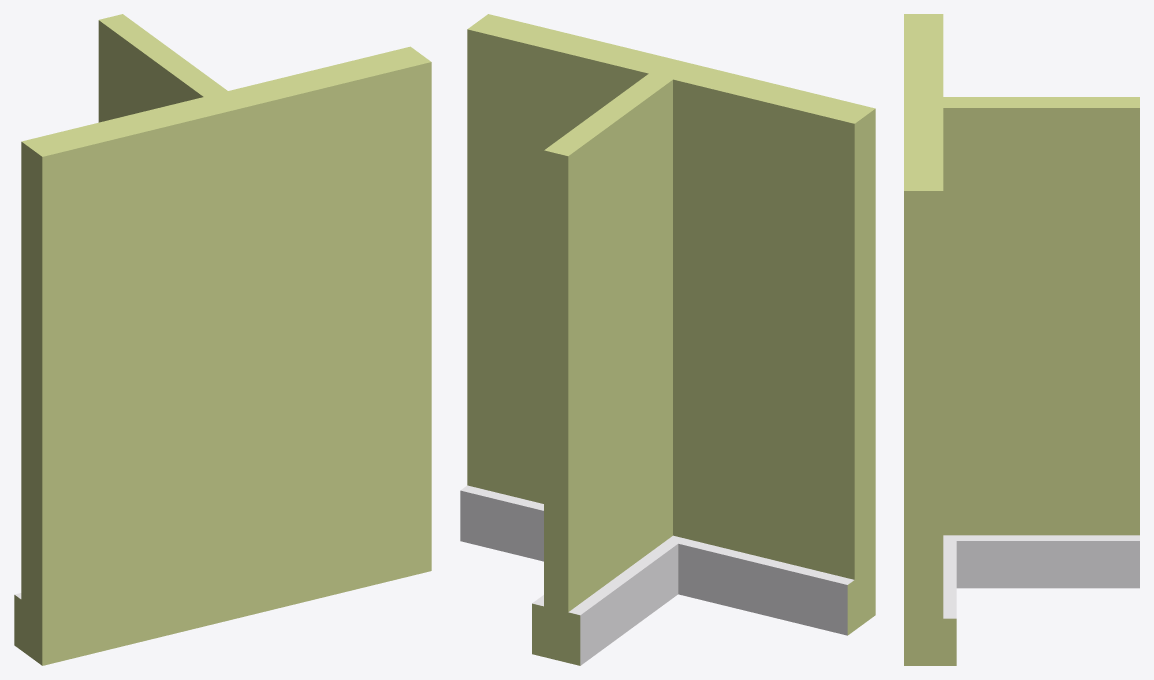
The model's file is TWallInsideCorners.glb.
3 renders of one model, left to right at view 1: azimuth 30°, elevation 25°; view 2: azimuth 150°, elevation 25°; view 3: azimuth 270°, elevation 25°, orthographic. The views are drawn at different scales.
Visible parts, largest first — view 1: TWallInsideCorners; view 2: TWallInsideCorners; view 3: TWallInsideCorners.
Boxes of the visible parts, <box> form: TWallInsideCorners: <box>14,14,431,665</box>; TWallInsideCorners: <box>460,14,875,665</box>; TWallInsideCorners: <box>904,14,1139,665</box>.
Bounding box in the file's own units: 32 × 40 × 18.
